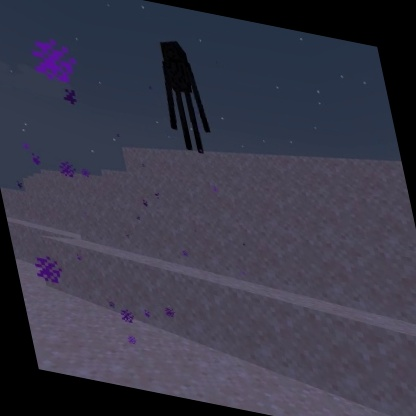enderman: (149, 33, 220, 160)
